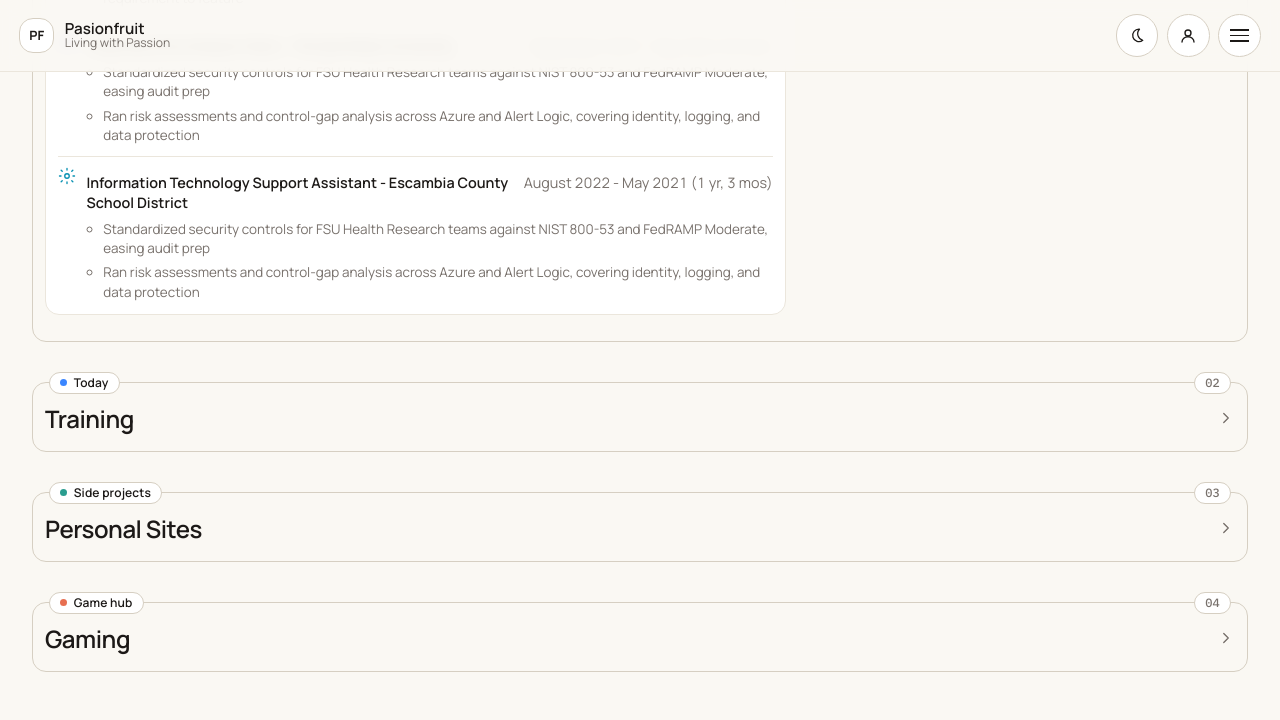
it: guest home page › expands and re-collapses a section
The image size is (1280, 720).
(page scrolled)
Click the button with class "home-section-toggle" showing "Game hub Gaming".
click(88, 639)  # box [45,619,1235,659]
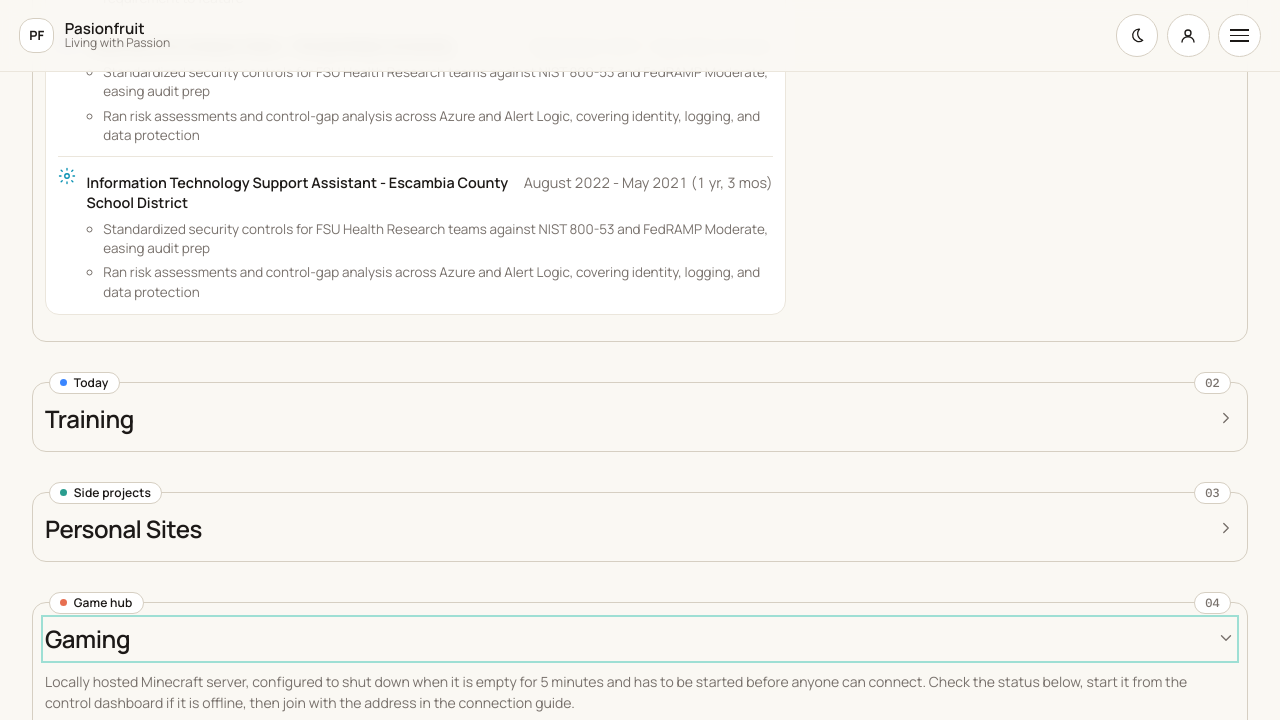
Expected: the button with class "home-section-toggle" is expanded
Click the button with class "home-section-toggle" showing "Game hub Gaming".
click(88, 639)  # box [45,619,1235,659]
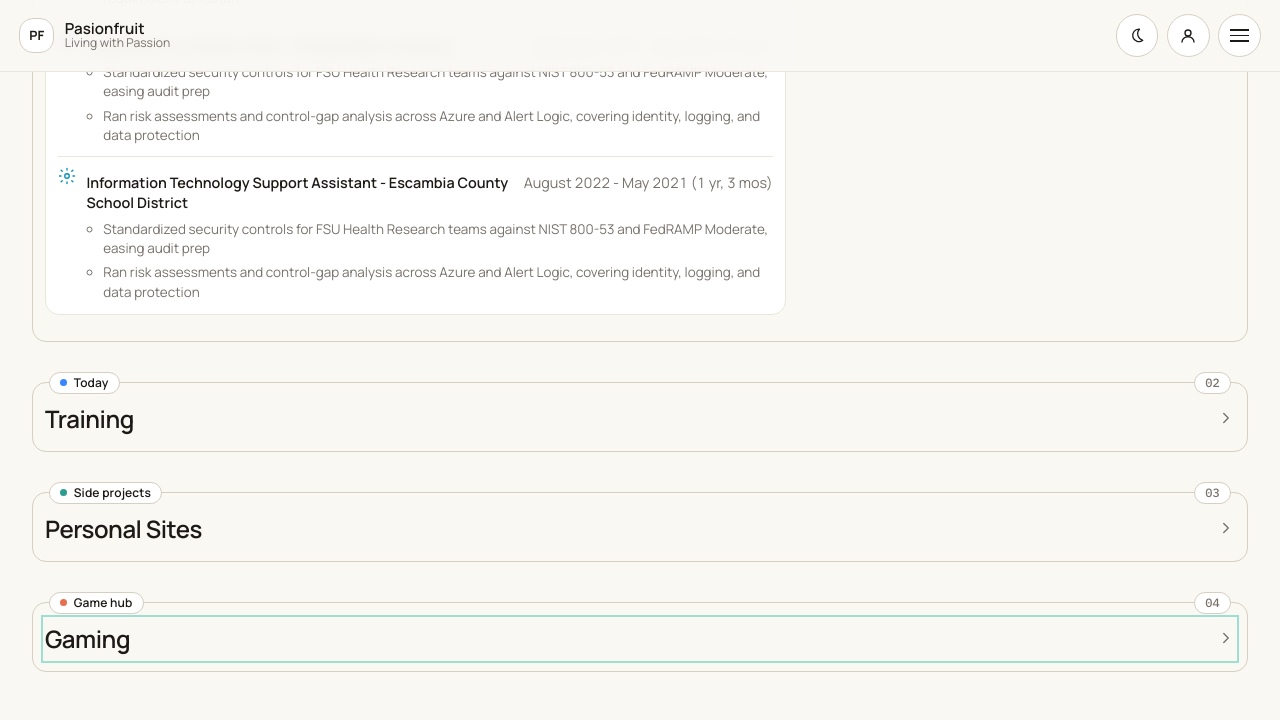
Expected: the button with class "home-section-toggle" is collapsed, [45,619,1235,659]
